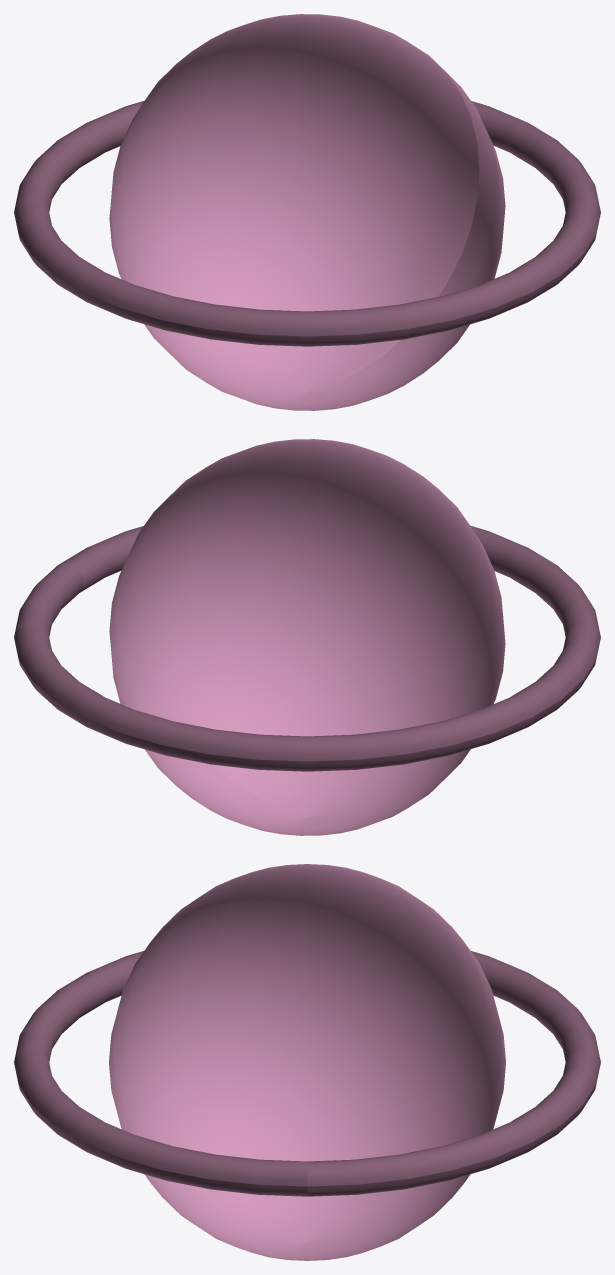
The model's file is asset_ab86586089.glb.
3 views of the same model, one above another, from view 1: azimuth 30°, elevation 25°; view 2: azimuth 150°, elevation 25°; view 3: azimuth 270°, elevation 25° (orthographic).
Visible parts, largest first — view 1: body, ring; view 2: body, ring; view 3: body, ring.
Boxes of the visible parts, left/top/right/bottom form: body: left=109, top=14, right=505, bottom=410; ring: left=14, top=100, right=600, bottom=346; body: left=109, top=439, right=505, bottom=835; ring: left=14, top=525, right=600, bottom=771; body: left=109, top=864, right=505, bottom=1260; ring: left=14, top=951, right=600, bottom=1196.
Size of the model in its own units: 2.66 by 1.8 by 2.66.
